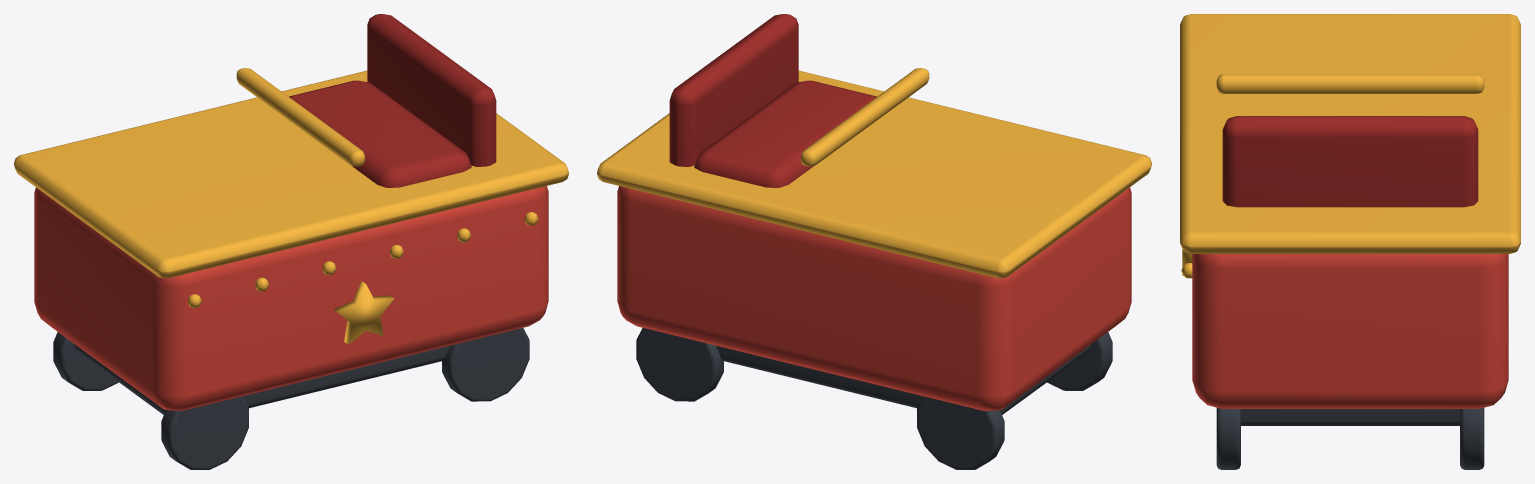
The model's file is jungle_mine_cart.glb.
3 renders of one model, left to right at view 1: azimuth 30°, elevation 25°; view 2: azimuth 150°, elevation 25°; view 3: azimuth 270°, elevation 25°, orthographic. The views are drawn at different scales.
Visible parts, largest first — view 1: MineCart; view 2: MineCart; view 3: MineCart.
Boxes of the visible parts, x1,y1,x2,y2 form: MineCart: [14, 14, 568, 469]; MineCart: [597, 14, 1151, 469]; MineCart: [1180, 14, 1520, 469].
Bounding box in the file's own units: 2.2 × 1.57 × 1.4.
